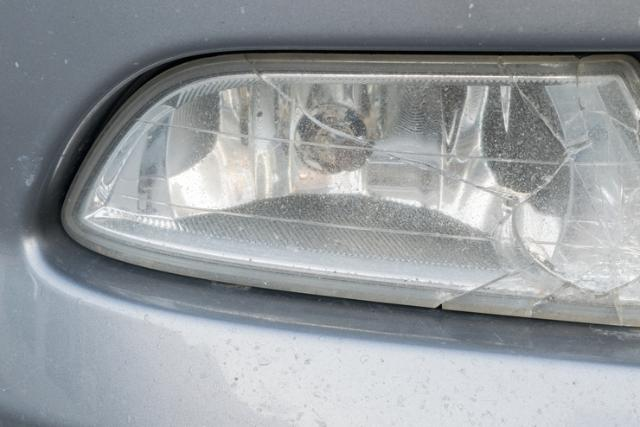Light: (90, 55, 640, 316)
